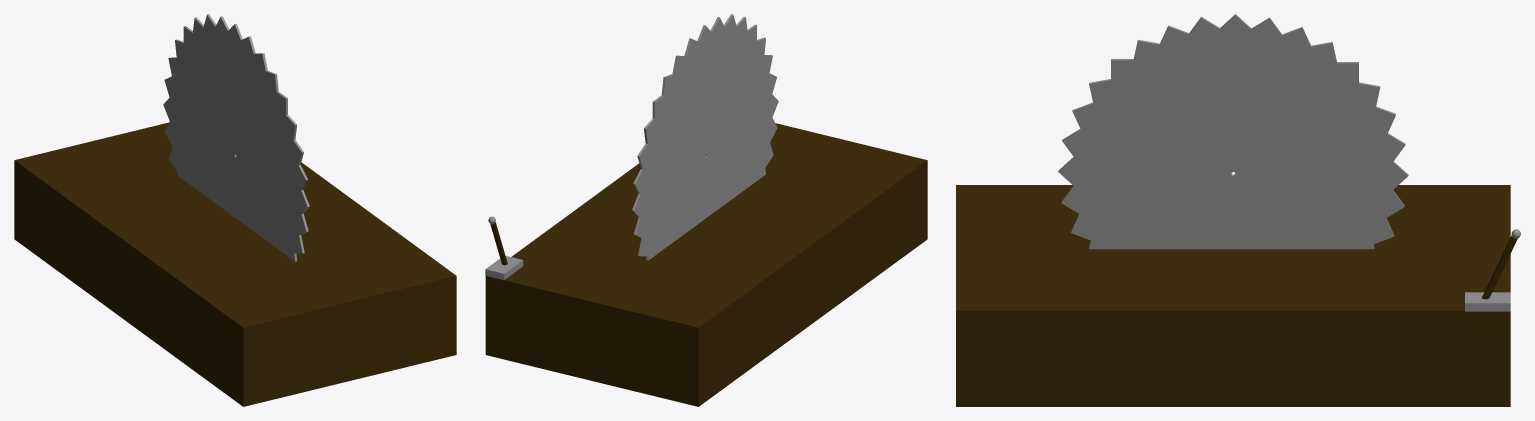
Rendered from CircularSaw1.1.fbx.
3 views of the same model, side by side, from view 1: azimuth 30°, elevation 25°; view 2: azimuth 150°, elevation 25°; view 3: azimuth 270°, elevation 25° (orthographic). The views are drawn at different scales.
Visible parts, largest first — view 1: Cube, Plane; view 2: Cube, Plane; view 3: Cube, Plane.
Boxes of the visible parts, bbox=[...] form: Cube: bbox=[14, 122, 456, 406]; Plane: bbox=[163, 14, 309, 261]; Cube: bbox=[485, 123, 927, 406]; Plane: bbox=[632, 14, 778, 260]; Cube: bbox=[956, 185, 1520, 406]; Plane: bbox=[1058, 14, 1408, 249].
Bounding box in the file's own units: 484 × 590 × 916.
